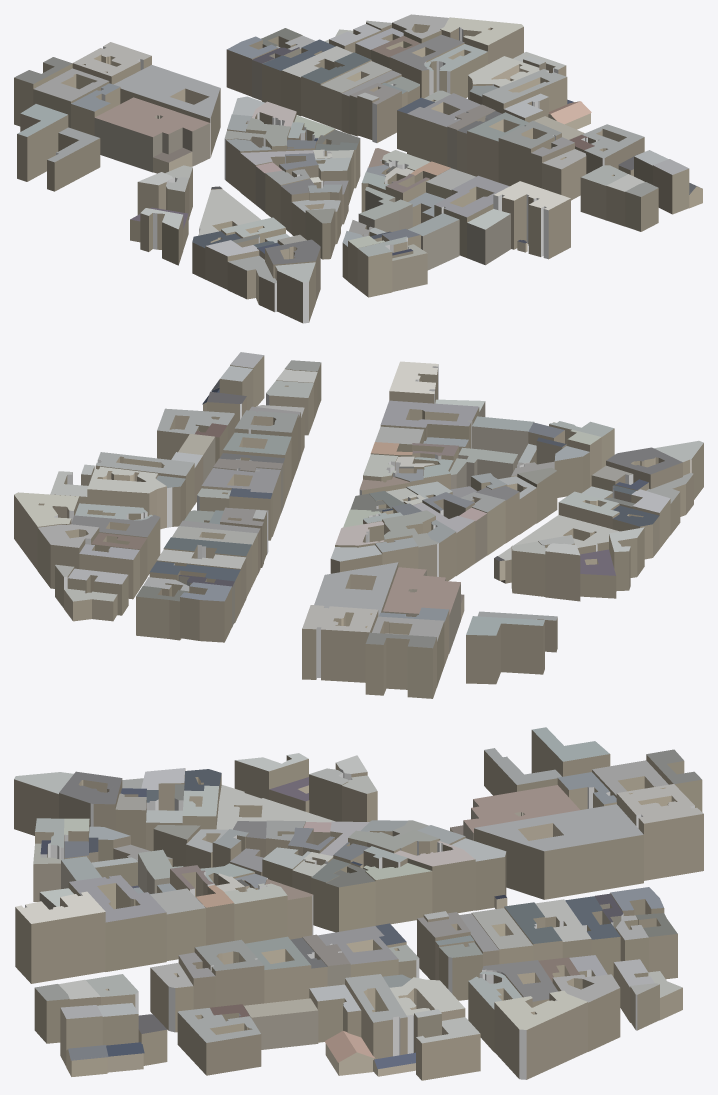
3 views of the same model, one above another, from view 1: azimuth 30°, elevation 25°; view 2: azimuth 150°, elevation 25°; view 3: azimuth 270°, elevation 25° (orthographic). The views are drawn at different scales.
Parts seen in each view (by area): view 1: tuile; view 2: tuile; view 3: tuile.
Part boxes in pixels (x1=…): tuile: x1=14, y1=14, x2=702, y2=323; tuile: x1=14, y1=352, x2=703, y2=698; tuile: x1=14, y1=727, x2=703, y2=1080.
Size of the model in its own units: 277 by 28.84 by 272.
